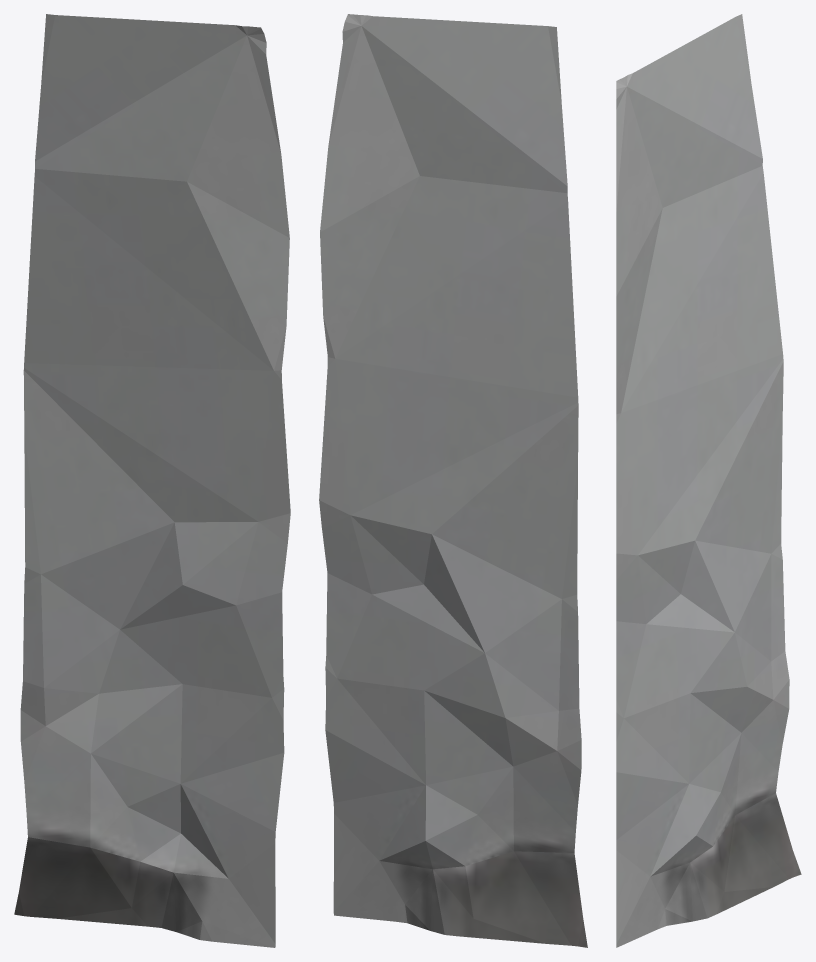
3 views of the same model, side by side, from view 1: azimuth 30°, elevation 25°; view 2: azimuth 210°, elevation 25°; view 3: azimuth 270°, elevation 25° (orthographic). The views are drawn at different scales.
Size of the model in its own units: 0.168 by 0.8374 by 0.1634.
Materials: 1 (1 with a texture image).
